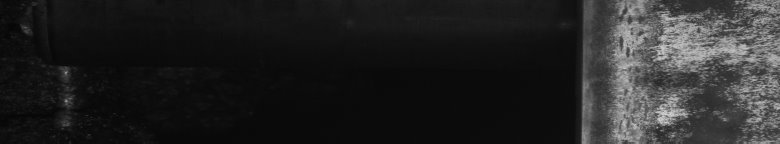kb: (603, 4, 776, 136)
